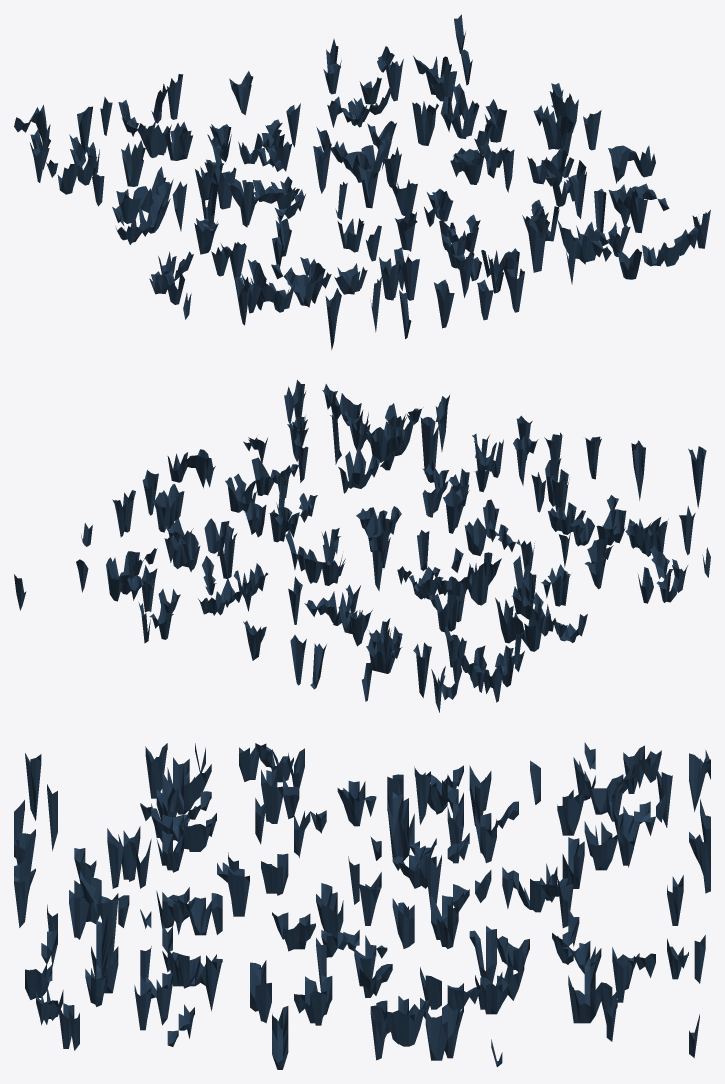
File: landscape_ARCHIPELAGO_v2_rivers.obj
3 renders of one model, top to bottom at view 1: azimuth 30°, elevation 25°; view 2: azimuth 150°, elevation 25°; view 3: azimuth 270°, elevation 25°, orthographic. The views are drawn at different scales.
Parts seen in each view (by area): view 1: rivers_ARCHIPELAGO; view 2: rivers_ARCHIPELAGO; view 3: rivers_ARCHIPELAGO.
Boxes of the visible parts, bbox=[...] form: rivers_ARCHIPELAGO: bbox=[14, 14, 710, 350]; rivers_ARCHIPELAGO: bbox=[14, 379, 710, 712]; rivers_ARCHIPELAGO: bbox=[14, 742, 710, 1069].
Bounding box in the file's own units: 255 × 34.67 × 254.
